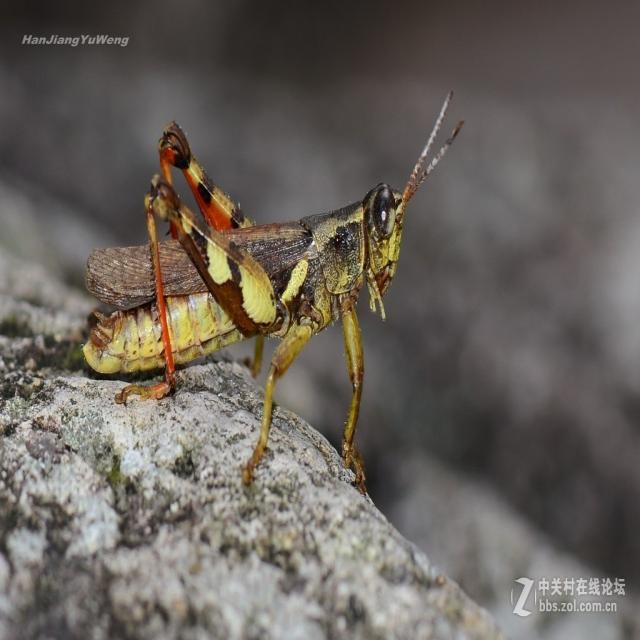ZhaMeng: (76, 114, 449, 395)
